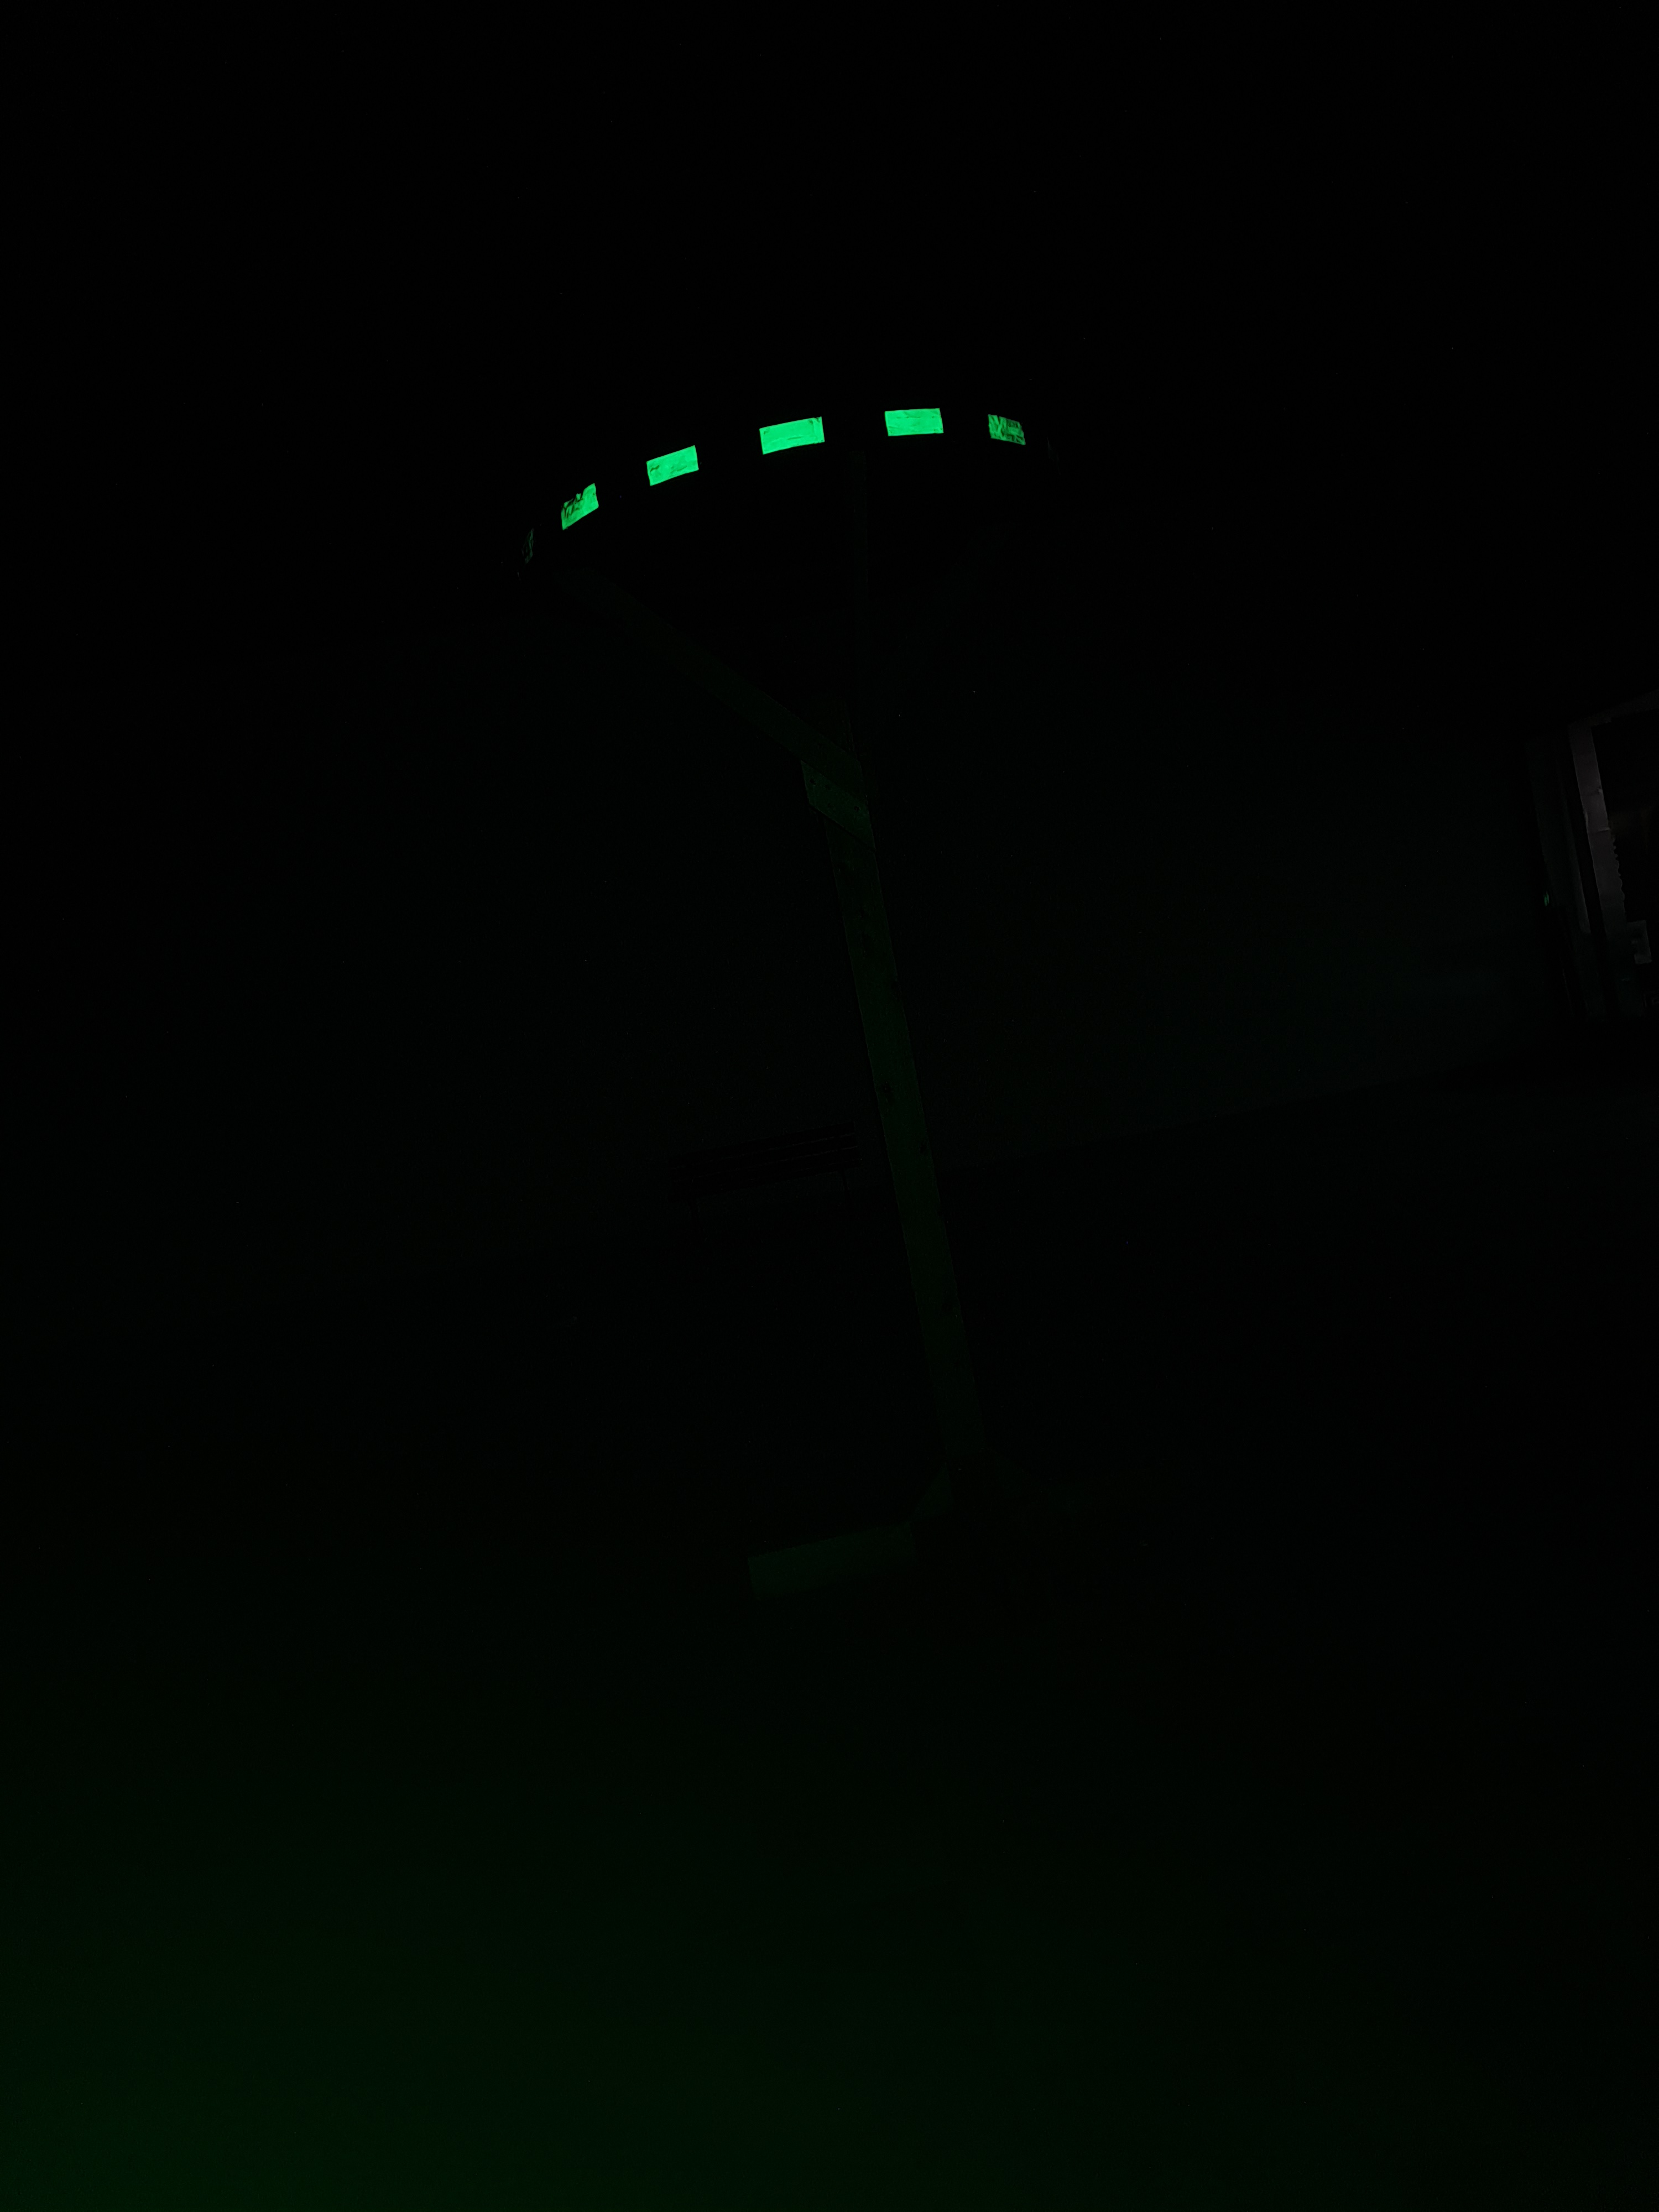hoop: (558, 397, 1030, 533)
